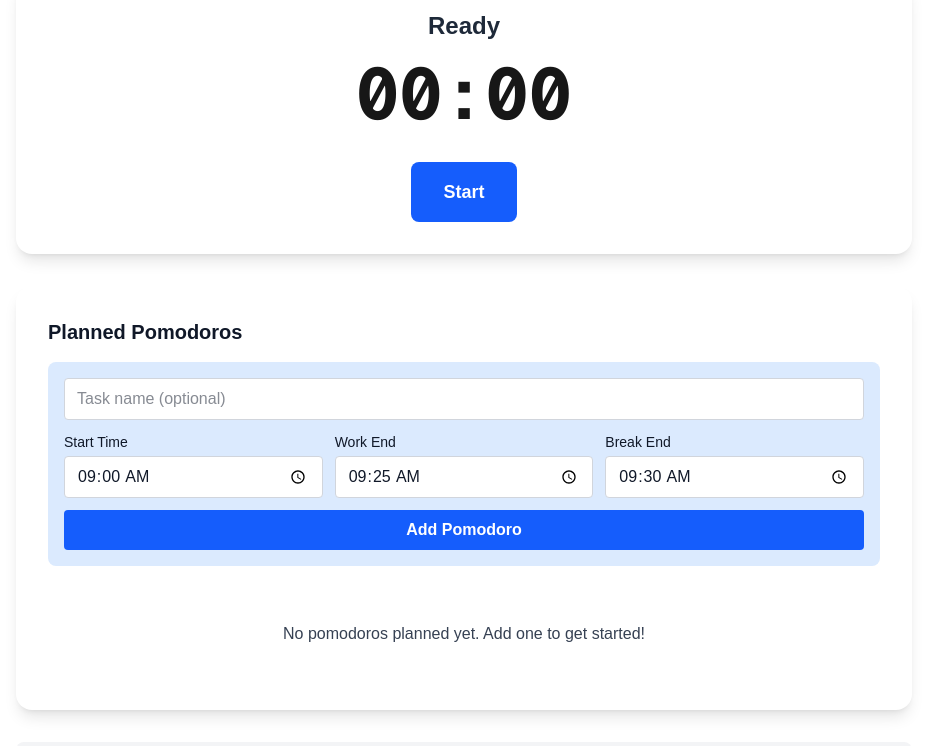
Test: PlannedMode › Add Pomodoro Form › should auto-fill work end and break end when start time is changed
# Change start time to 10:00
Replace the text in the time field below "Start Time" with "10:00" at (193, 477), box [64,456,323,498]
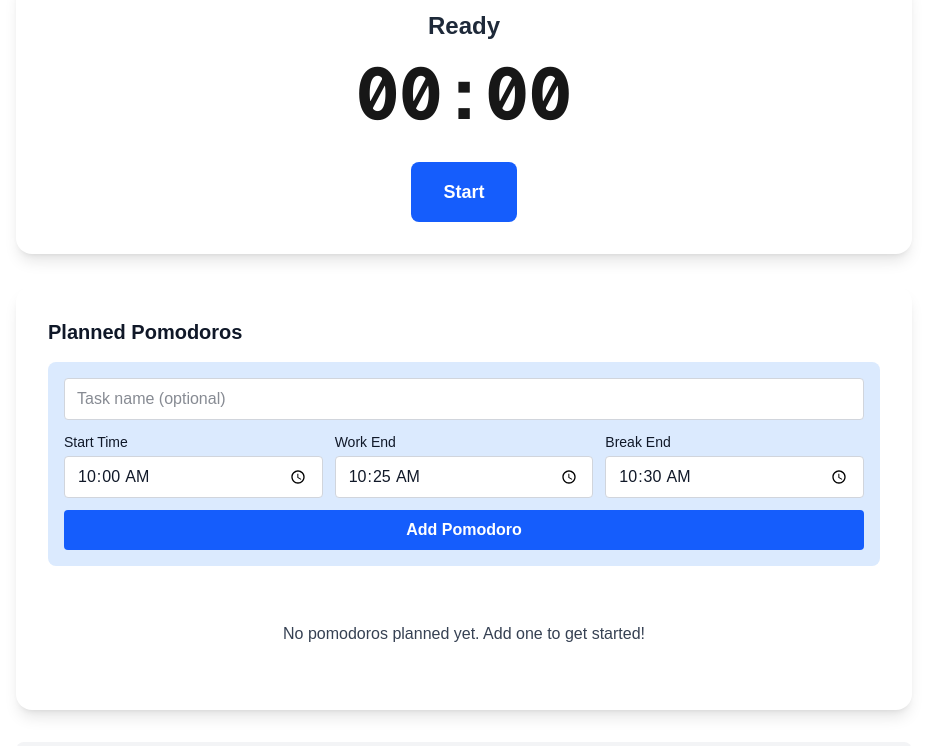
Check: the time field below "Work End" holds "10:25", box [335,456,593,498]
Check: the time field below "Break End" holds "10:30", box [605,456,864,498]
